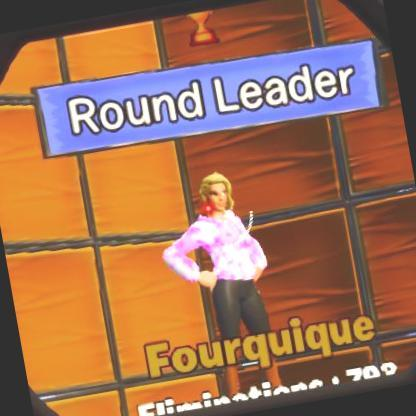person: (148, 163, 282, 353)
